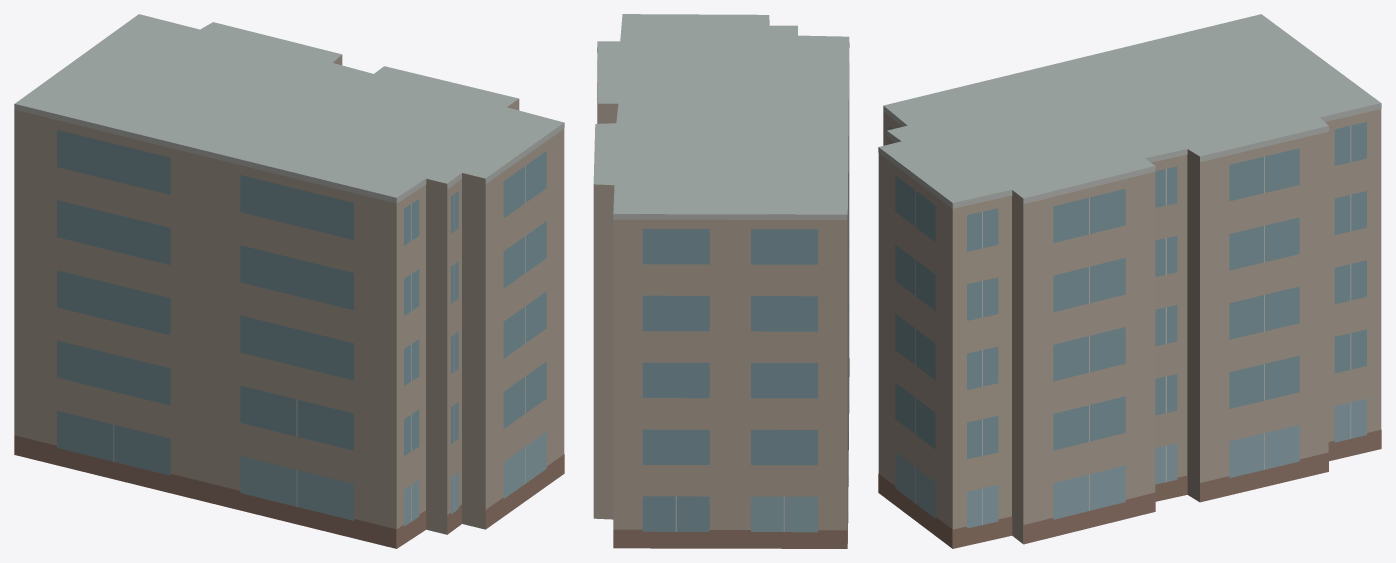
File: survey-upis-32776187.glb
3 views of the same model, side by side, from view 1: azimuth 30°, elevation 25°; view 2: azimuth 150°, elevation 25°; view 3: azimuth 270°, elevation 25° (orthographic). The views are drawn at different scales.
Visible parts, largest first — view 1: survey-upis-32776187.tmp; view 2: survey-upis-32776187.tmp; view 3: survey-upis-32776187.tmp.
Boxes of the visible parts, <box> form: survey-upis-32776187.tmp: <box>14,14,564,548</box>; survey-upis-32776187.tmp: <box>593,14,849,548</box>; survey-upis-32776187.tmp: <box>878,14,1381,548</box>.
Size of the model in its own units: 17.31 by 14.76 by 19.46.
